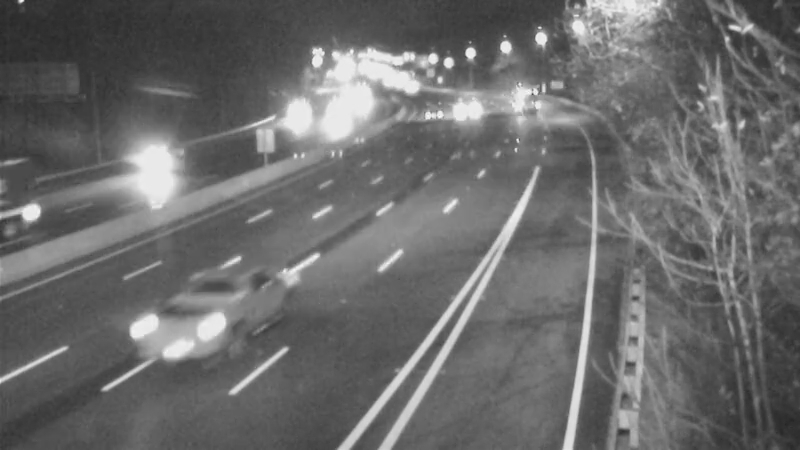vehicle: (126, 277, 236, 387), (118, 128, 198, 208), (498, 70, 548, 120), (446, 85, 496, 135), (408, 89, 458, 139), (310, 100, 360, 150), (267, 91, 317, 141)
